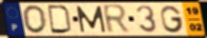3: (135, 5, 158, 34)
D: (46, 5, 74, 35)
G: (159, 5, 185, 34)
M: (75, 5, 108, 34)
O: (21, 4, 49, 35)
R: (101, 3, 132, 36)
